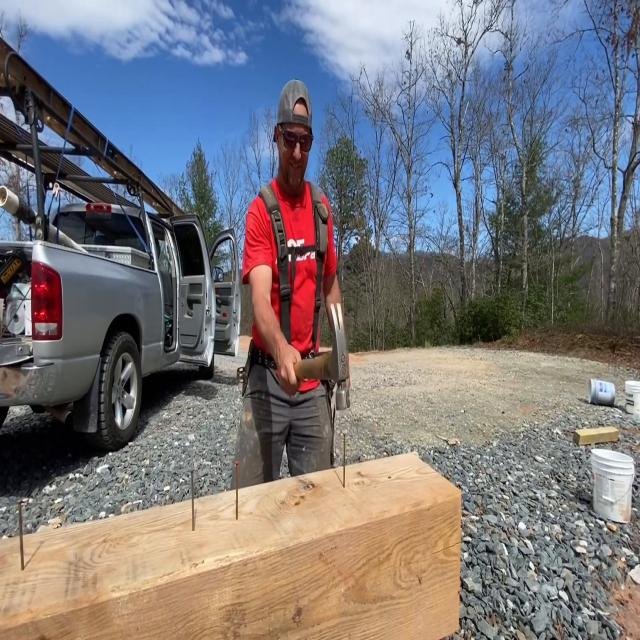hammer: (294, 302, 350, 412)
